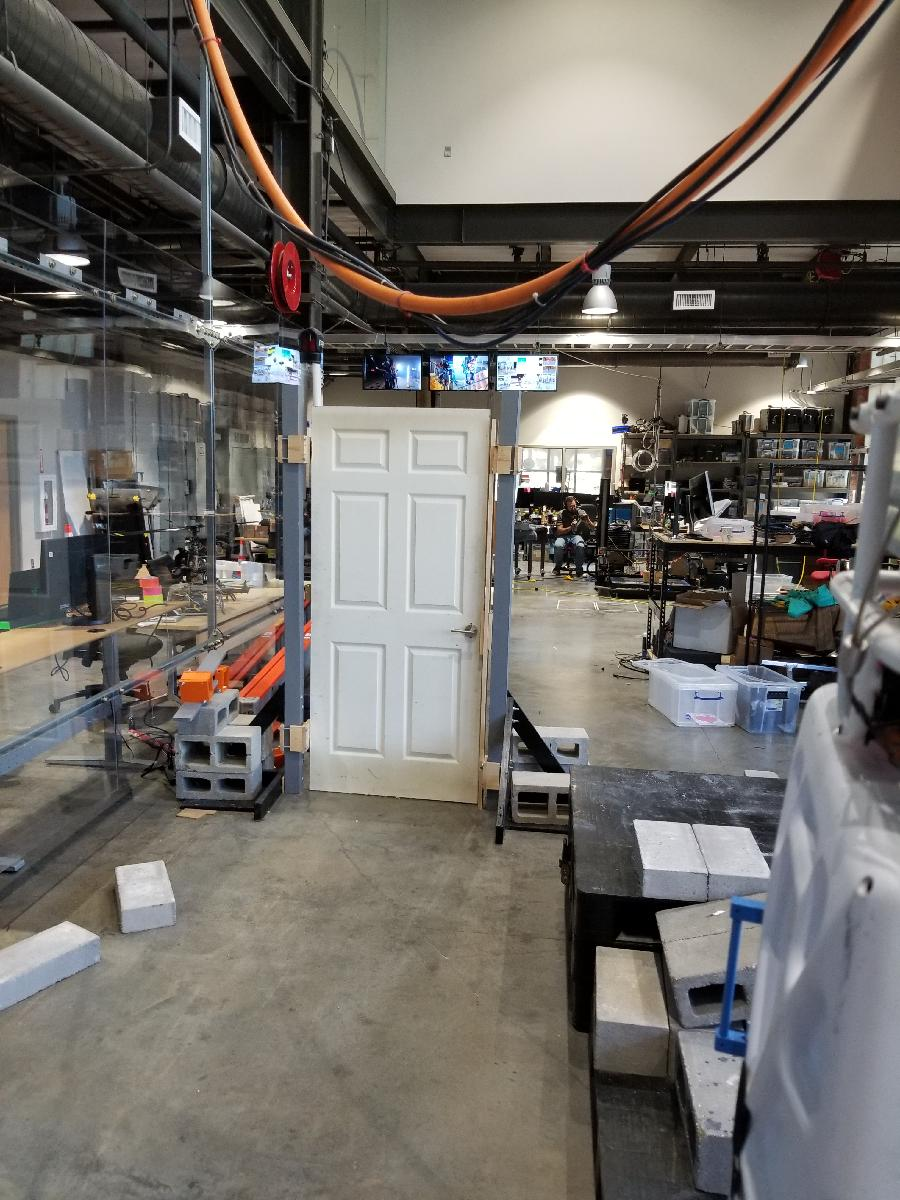door: (305, 402, 494, 810)
doorHandle: (449, 616, 481, 645)
